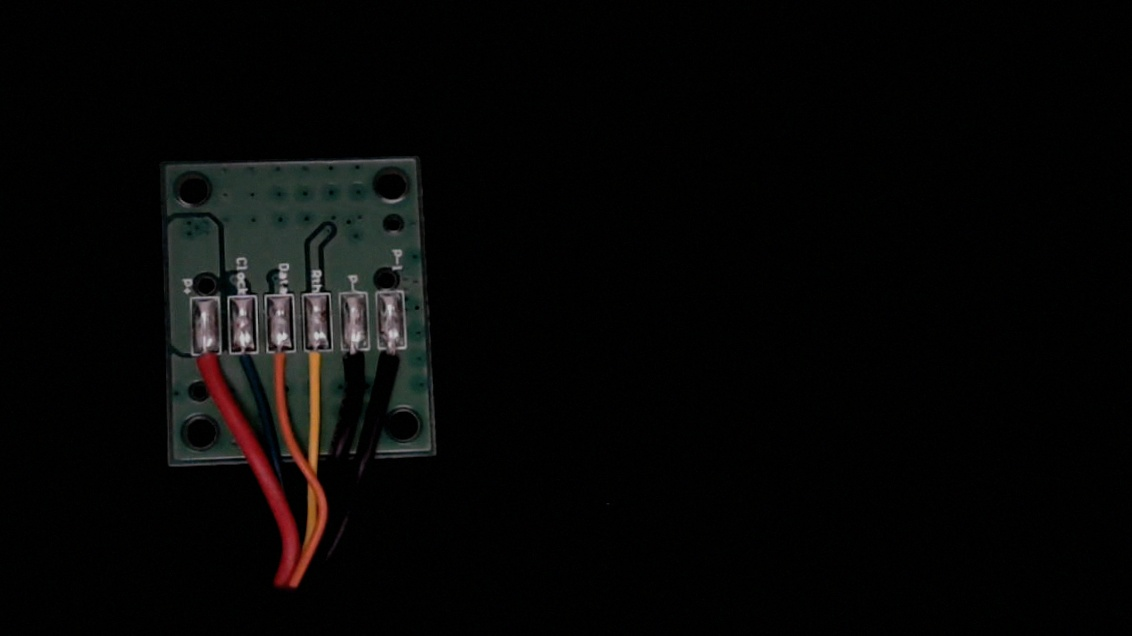Black: (340, 334, 371, 394)
Black1: (378, 333, 408, 395)
Green: (230, 336, 258, 397)
Orange: (267, 337, 296, 391)
Red: (192, 337, 220, 398)
Yellow: (303, 334, 332, 399)
